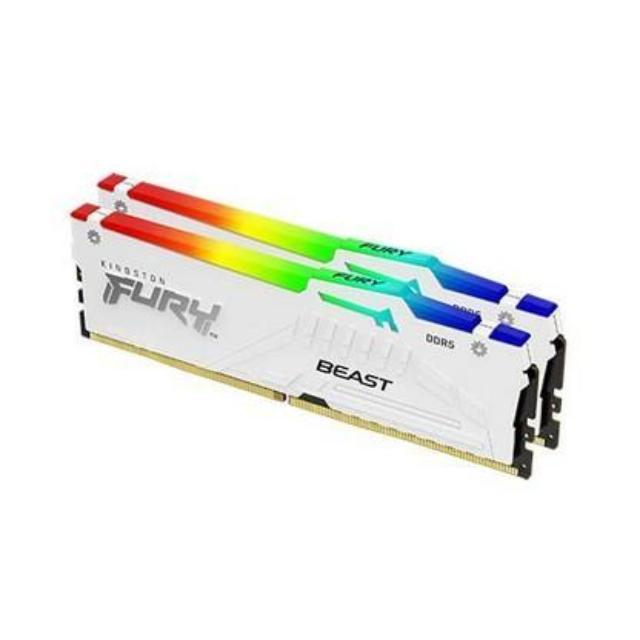RAM: (66, 168, 574, 480)
